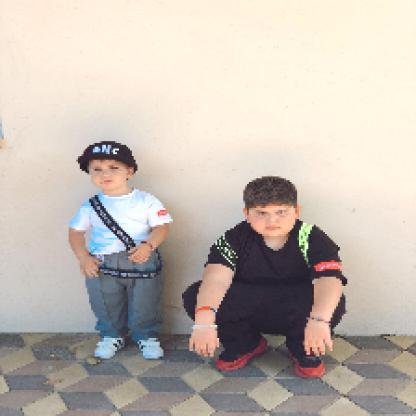child: (68, 141, 176, 362)
